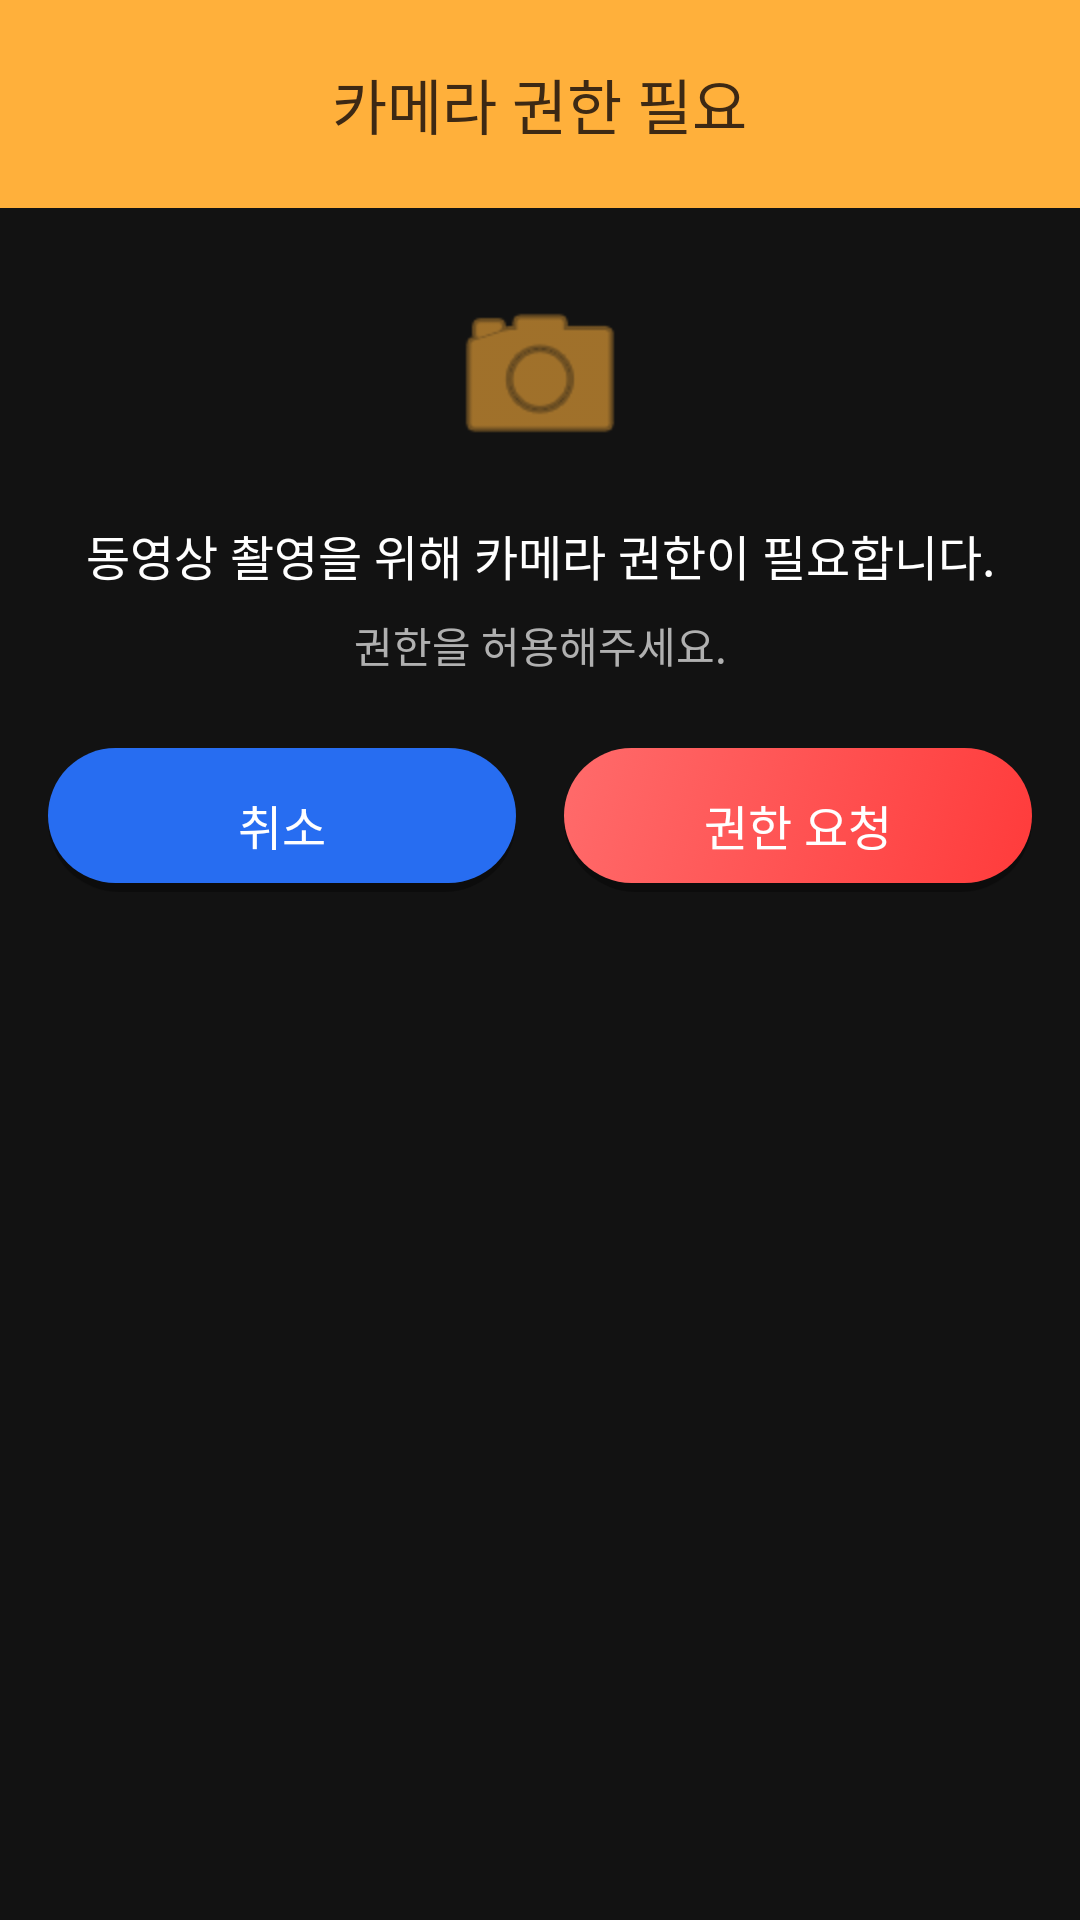

Named icons in this screenshot (1080*1920) and their bounding boxes, (x1=x1, y1=y1, x2=x2, y2=y2):
camera: (x1=466, y1=314, x2=614, y2=432)
